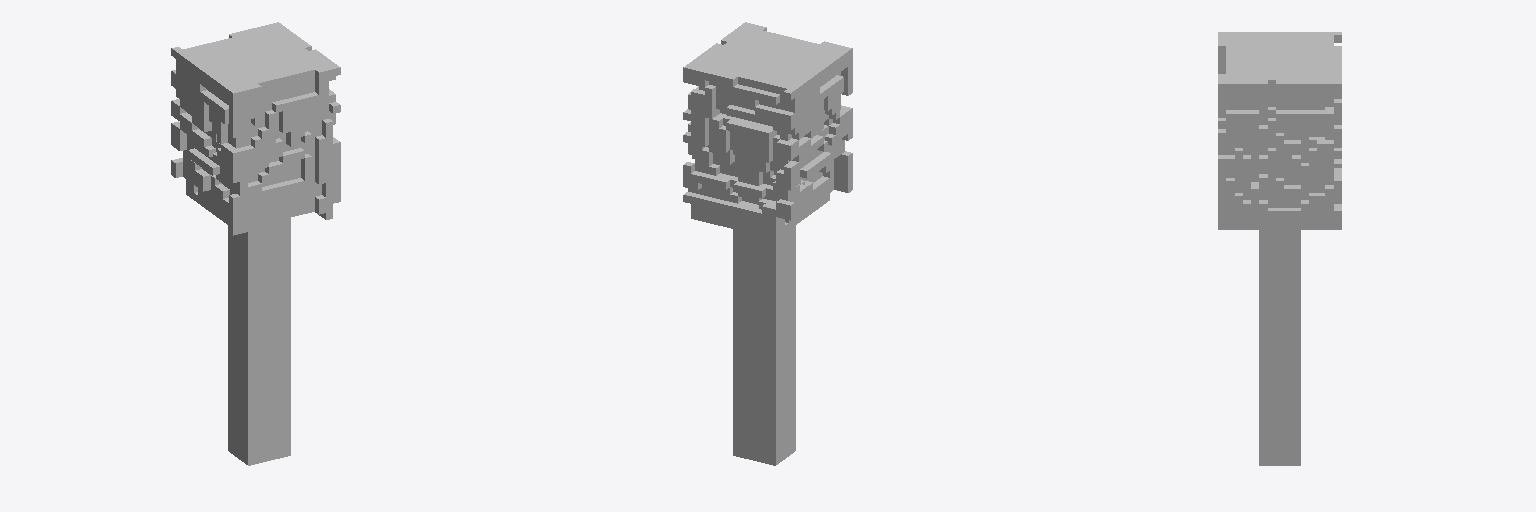
Rendered from tree1.obj.
3 renders of one model, left to right at view 1: azimuth 30°, elevation 25°; view 2: azimuth 150°, elevation 25°; view 3: azimuth 270°, elevation 25°, orthographic.
Parts seen in each view (by area): view 1: object 1; view 2: object 1; view 3: object 1.
Part boxes in pixels (x1,y1,x2,y2): object 1: (171, 22, 340, 465); object 1: (683, 22, 852, 465); object 1: (1218, 32, 1341, 465).
Bounding box in the file's own units: 1.5 × 5.3 × 1.5.